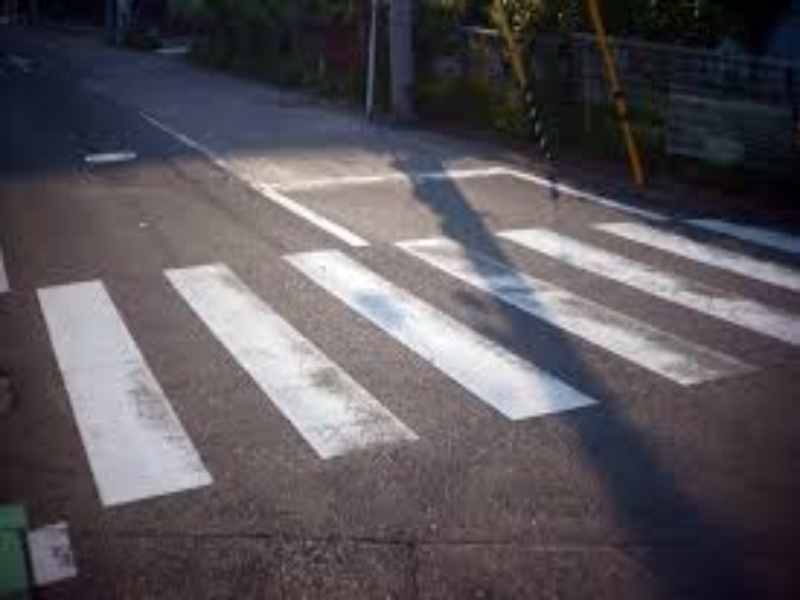zebra cross: (31, 214, 800, 511)
